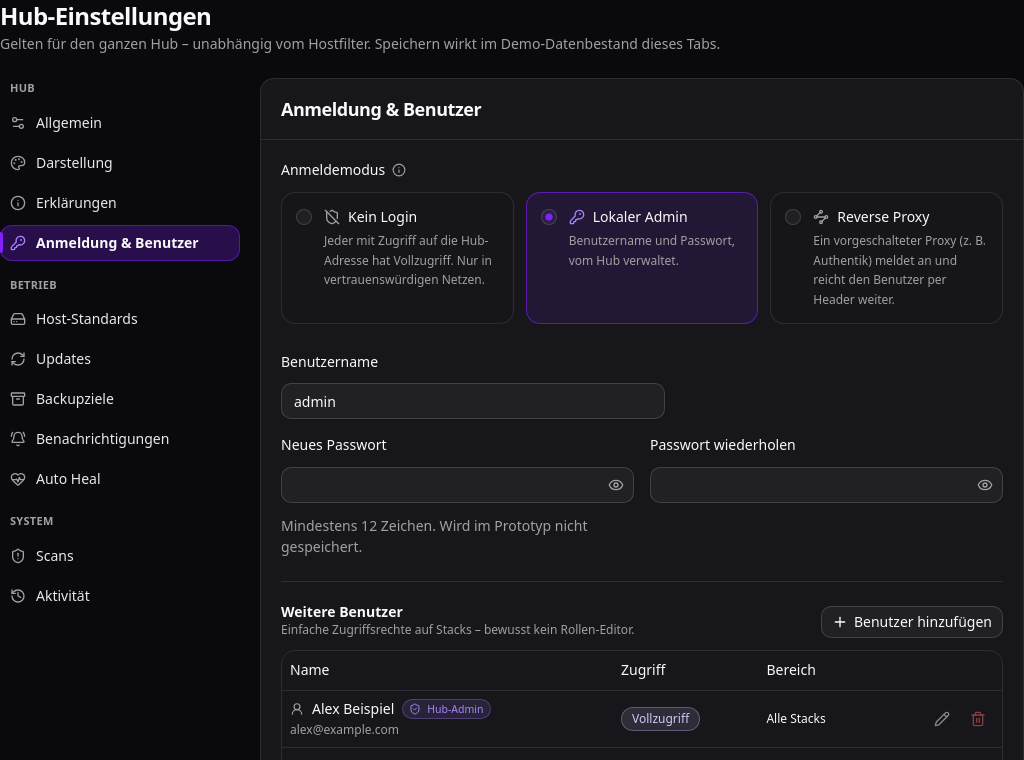
Scenario: hub settings › keeps a username edit made during the first password save valid
The width and height of the screenshot is (1024, 760).
Type "ein-langes-passwort" into the password field labelled "Neues Passwort".
click(443, 484); type("ein-langes-passwort")  # box [282,466,604,502]
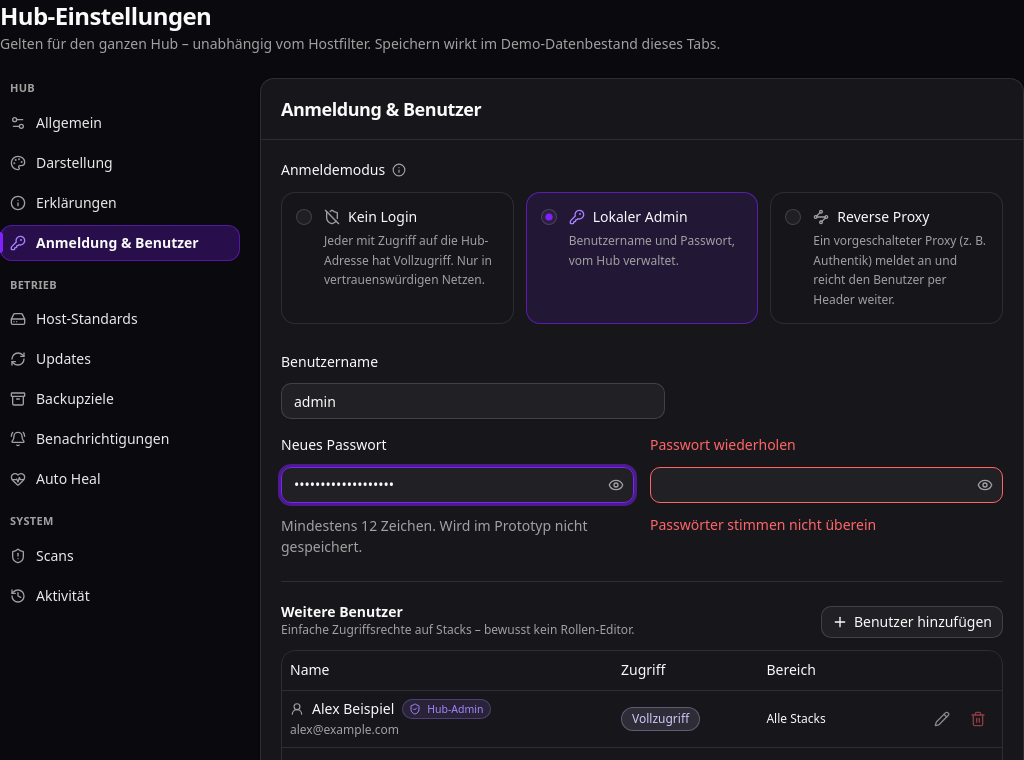
Type "ein-langes-passwort" into the password field labelled "Passwort wiederholen".
click(812, 484); type("ein-langes-passwort")  # box [651,466,973,502]
(page scrolled)
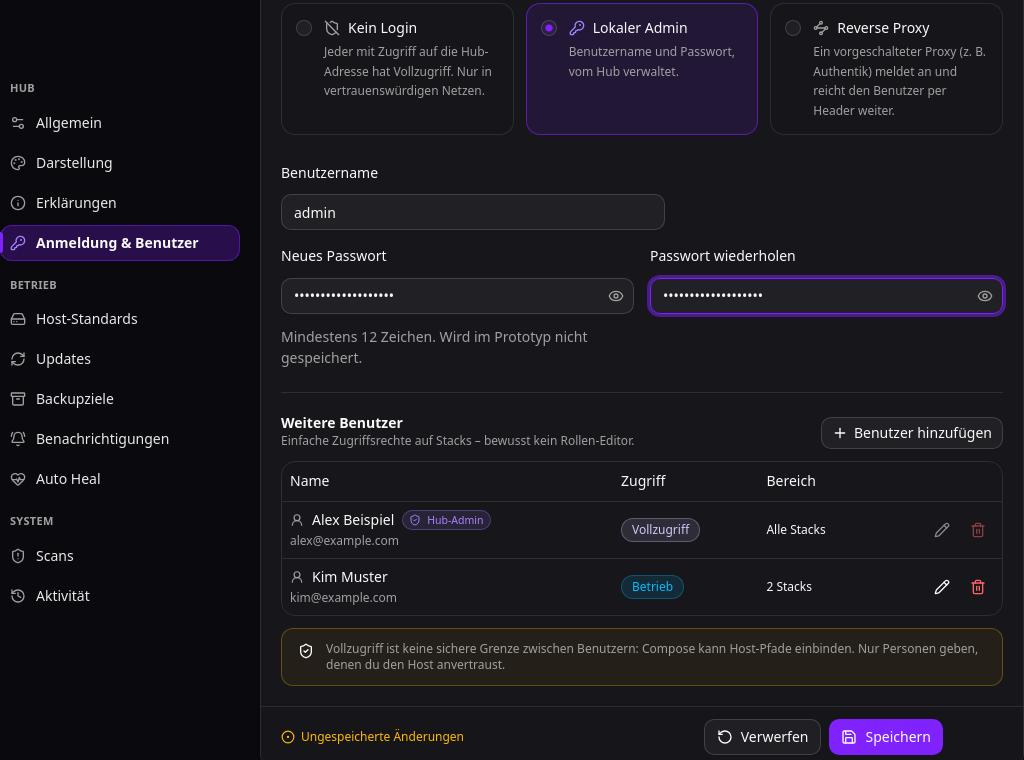
Click the button "Speichern".
click(886, 737)  # box [830,719,943,755]
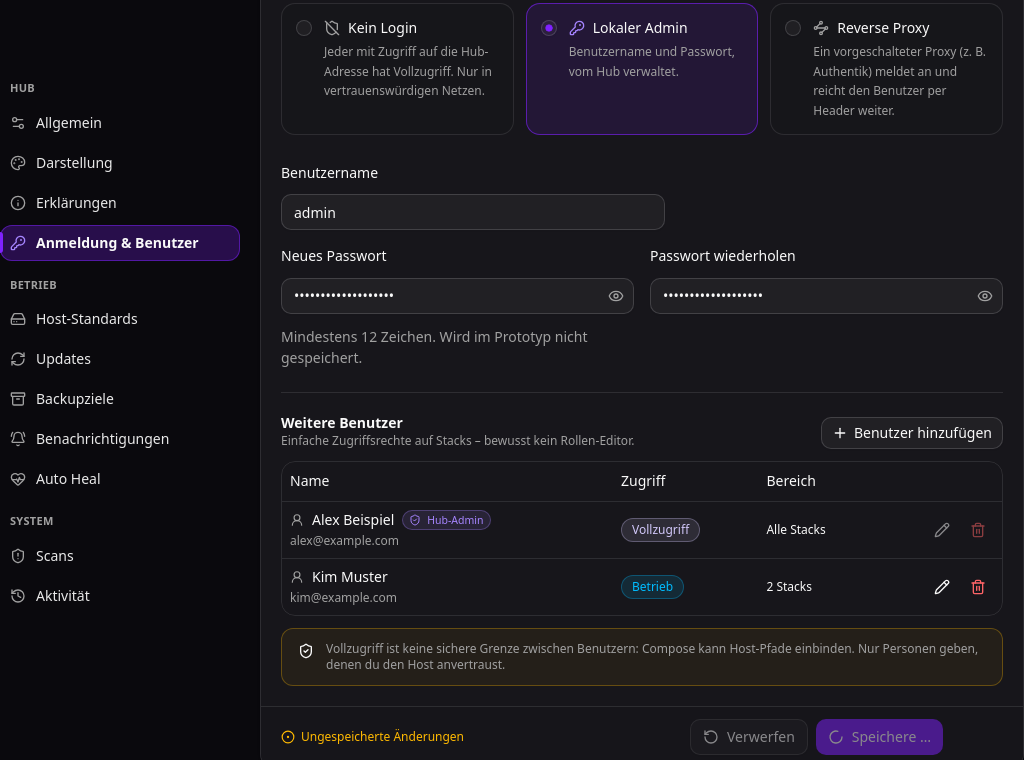
Type "-neu" into the field labelled "Benutzername".
click(473, 212); type("-neu")  # box [281,194,665,230]
Wait 1000 ms
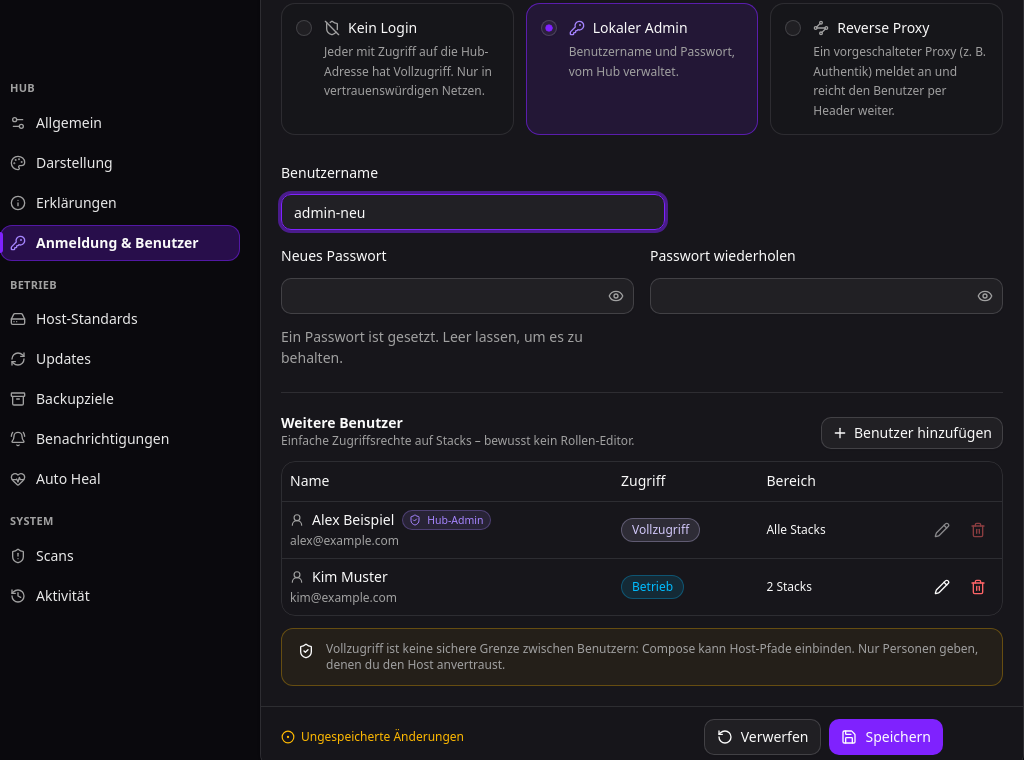
Now the password field labelled "Neues Passwort" is empty, box [282,278,604,314]
Now the button "Speichern" is enabled, box [830,719,943,755]
